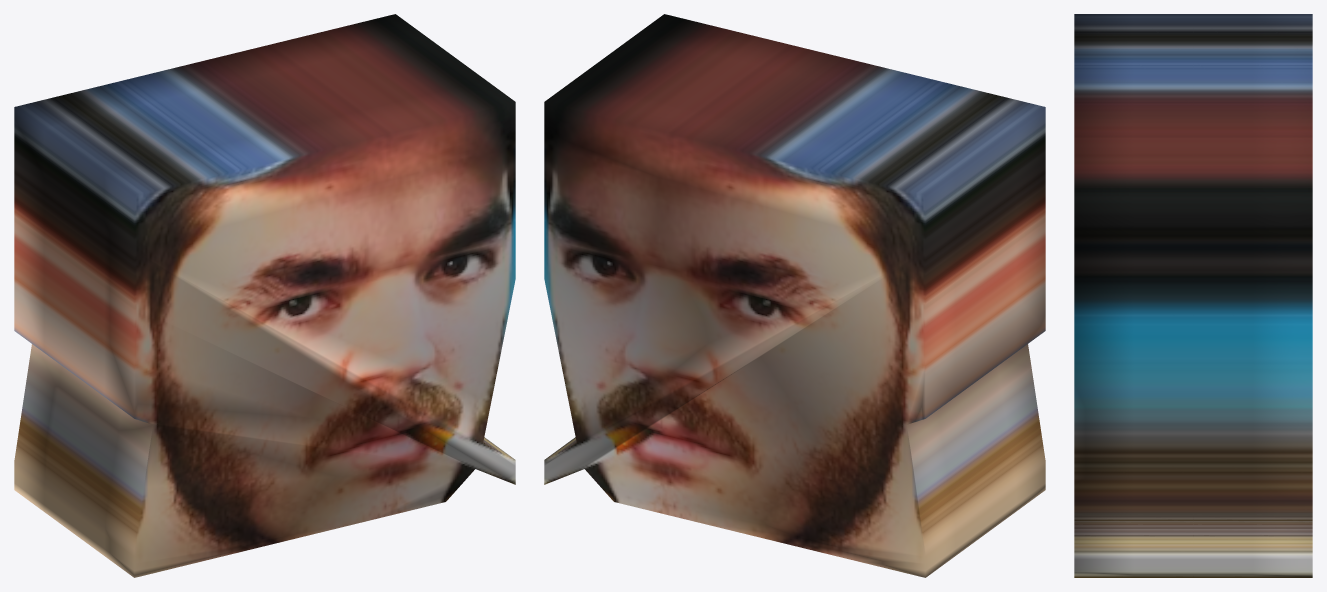
File: schlatt1.glb
The picture shows the model from 3 angles, left to right: view 1: azimuth 30°, elevation 25°; view 2: azimuth 150°, elevation 25°; view 3: azimuth 270°, elevation 25°; orthographic projection.
Parts seen in each view (by area): view 1: Screenshot 2025-09-27 163418; view 2: Screenshot 2025-09-27 163418; view 3: Screenshot 2025-09-27 163418.
Boxes of the visible parts, x1=… form: Screenshot 2025-09-27 163418: x1=14, y1=14, x2=515, y2=577; Screenshot 2025-09-27 163418: x1=544, y1=14, x2=1045, y2=577; Screenshot 2025-09-27 163418: x1=1074, y1=14, x2=1312, y2=577.
Size of the model in its own units: 1.04 by 1 by 0.5685.
1 material, 1 textured.
